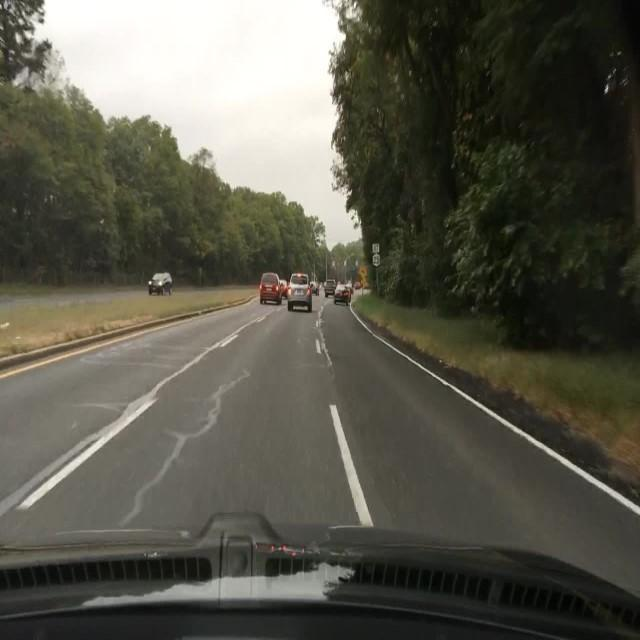normal: (240, 242, 371, 325)
